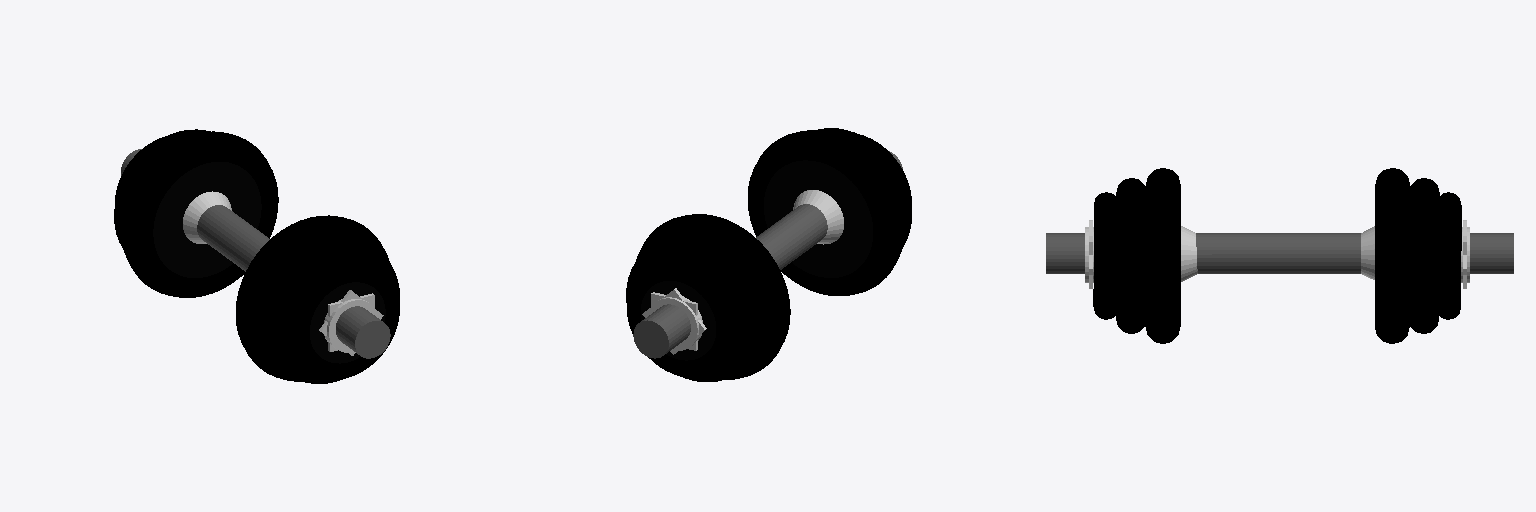
The model's file is dumbbell.obj.
The picture shows the model from 3 angles: view 1: azimuth 30°, elevation 25°; view 2: azimuth 150°, elevation 25°; view 3: azimuth 270°, elevation 25°; orthographic projection.
Visible parts, largest first — view 1: Torus.002_Torus.013, Cylinder.009_Cylinder.017, Torus.009_Torus.014, Torus.010_Torus.015, Torus.011_Torus.016, Cylinder.012_Cylinder.020, Cylinder.010_Cylinder.018, Torus.001_Torus.012, Cone.003, Cylinder.007_Cylinder.015; view 2: Torus.009_Torus.014, Cylinder.008_Cylinder.016, Torus.002_Torus.013, Torus.000_Torus.011, Torus.001_Torus.012, Cylinder.012_Cylinder.020, Cylinder.011_Cylinder.019, Torus.010_Torus.015, Cone.002, Cylinder.004_Cylinder.014; view 3: Cylinder.012_Cylinder.020, Torus.009_Torus.014, Torus.002_Torus.013, Torus.001_Torus.012, Torus.010_Torus.015, Torus.011_Torus.016, Torus.000_Torus.011, Cone.002, Cone.003.
Boxes of the visible parts, <box> form: Torus.002_Torus.013: <box>121,131,278,297</box>; Cylinder.009_Cylinder.017: <box>153,162,261,277</box>; Torus.009_Torus.014: <box>236,215,388,381</box>; Torus.010_Torus.015: <box>260,236,399,383</box>; Torus.011_Torus.016: <box>286,259,399,379</box>; Cylinder.012_Cylinder.020: <box>121,149,390,358</box>; Cylinder.010_Cylinder.018: <box>310,282,385,363</box>; Torus.001_Torus.012: <box>114,129,210,247</box>; Cone.003: <box>183,191,231,243</box>; Cylinder.007_Cylinder.015: <box>324,299,377,352</box>; Torus.009_Torus.014: <box>748,130,904,295</box>; Cylinder.008_Cylinder.016: <box>764,160,872,277</box>; Torus.002_Torus.013: <box>636,214,790,379</box>; Torus.000_Torus.011: <box>627,258,740,377</box>; Torus.001_Torus.012: <box>626,235,765,381</box>; Cylinder.012_Cylinder.020: <box>633,151,902,358</box>; Cylinder.011_Cylinder.019: <box>641,281,715,360</box>; Torus.010_Torus.015: <box>818,128,911,246</box>; Cone.002: <box>793,190,843,244</box>; Cylinder.004_Cylinder.014: <box>649,296,702,350</box>; Cylinder.012_Cylinder.020: <box>1046,233,1513,273</box>; Torus.009_Torus.014: <box>1145,168,1180,343</box>; Torus.002_Torus.013: <box>1375,168,1410,343</box>; Torus.001_Torus.012: <box>1410,178,1439,333</box>; Torus.010_Torus.015: <box>1116,178,1145,333</box>; Torus.011_Torus.016: <box>1093,192,1115,319</box>; Torus.000_Torus.011: <box>1439,192,1461,319</box>; Cone.002: <box>1181,226,1197,281</box>; Cone.003: <box>1361,226,1374,279</box>.
Size of the model in its own units: 4 by 4 by 10.61.